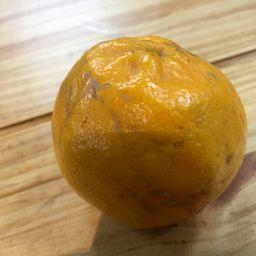Ripe: (55, 38, 248, 231)
